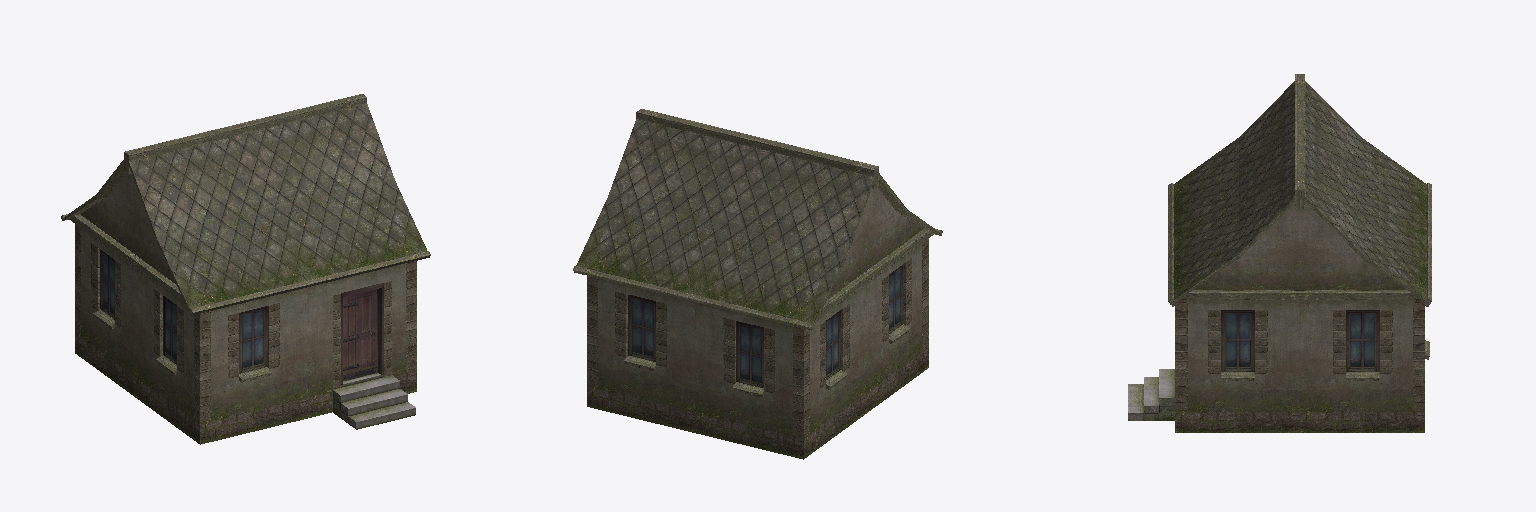
The picture shows the model from 3 angles: view 1: azimuth 30°, elevation 25°; view 2: azimuth 150°, elevation 25°; view 3: azimuth 270°, elevation 25°; orthographic projection.
Parts seen in each view (by area): view 1: Object_2; view 2: Object_2; view 3: Object_2.
Boxes of the visible parts, x1,y1,x2,y2 form: Object_2: [61, 94, 430, 444]; Object_2: [573, 109, 942, 459]; Object_2: [1128, 74, 1431, 432].
Size of the model in its own units: 3.24 by 3.23 by 3.59.
1 materials, 1 textured.